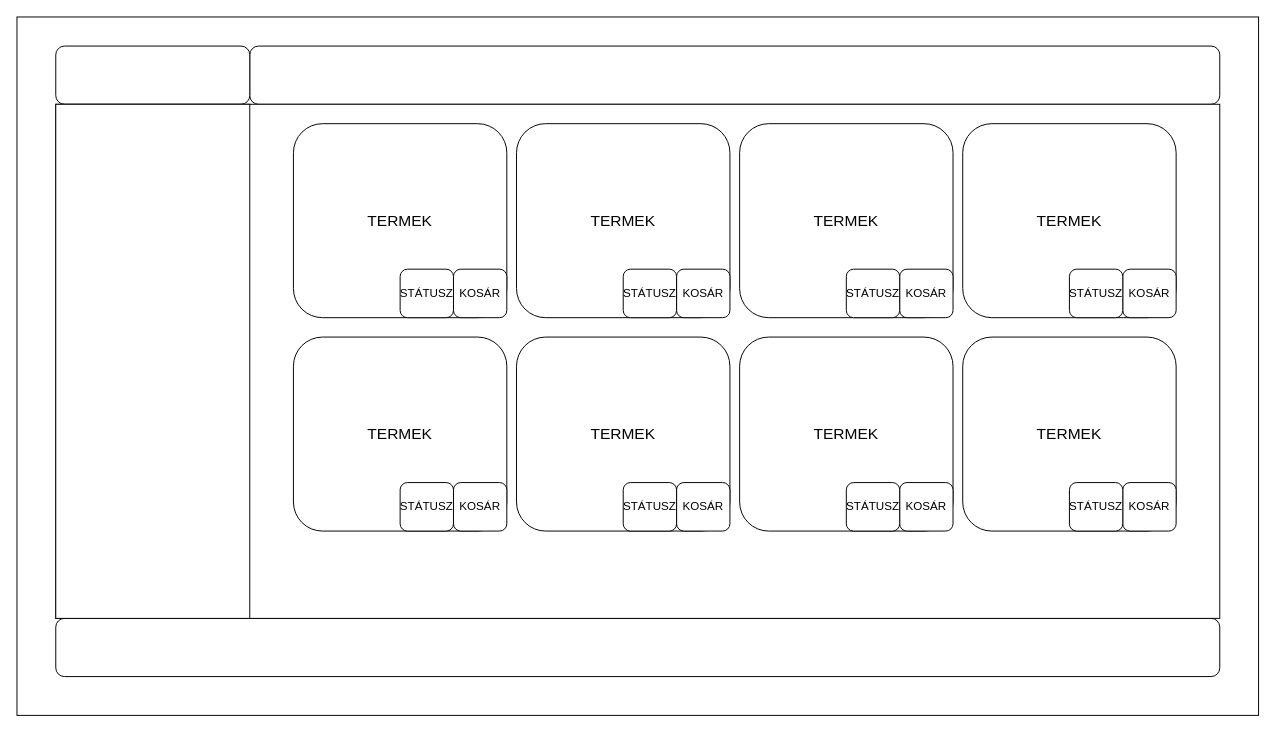
This 1276x732 diagram has some shape labels left out. The shapes that lost their labels are listed below. From the top down, each one's centre as x and y in pixels, then its label:
At pixel 152 74: "LOGÓ ÉS CÉGNÉV".
At pixel 734 74: "MENÜSÁV".
At pixel 152 360: "OLDALSÁV (OPCIONÁLIS)".
At pixel 637 647: "LÁBJEGYZET".
